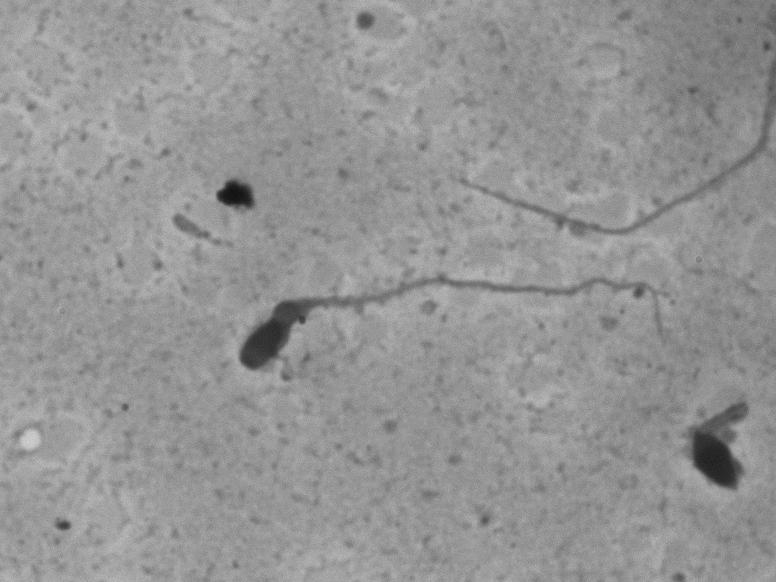Abnormal: (221, 249, 676, 393)
